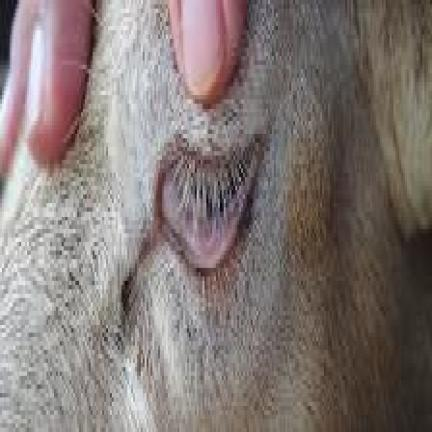goat-eye-anemia-22222222: (160, 143, 258, 264)
